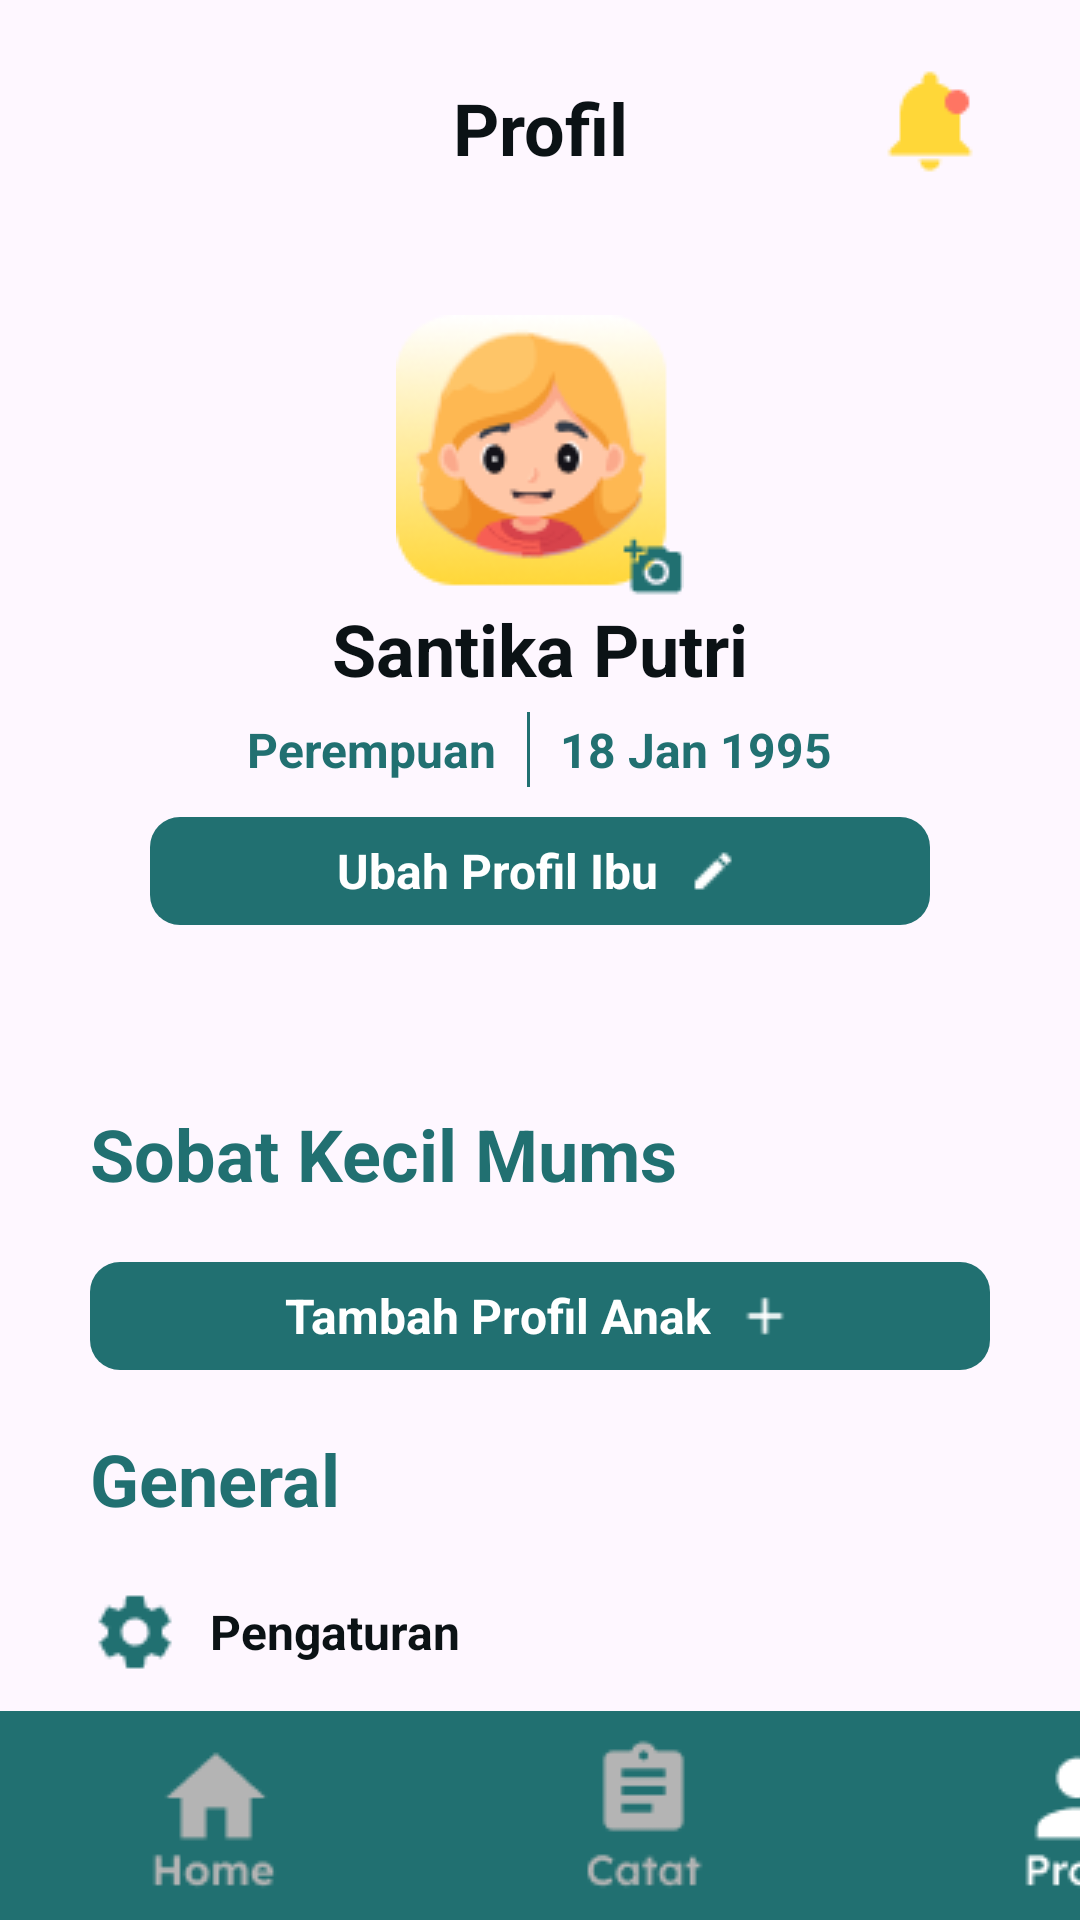

Where to tap for icons on this 1080 x 1920 app screen, as point (x, y):
ibu add photo: point (540, 463)
